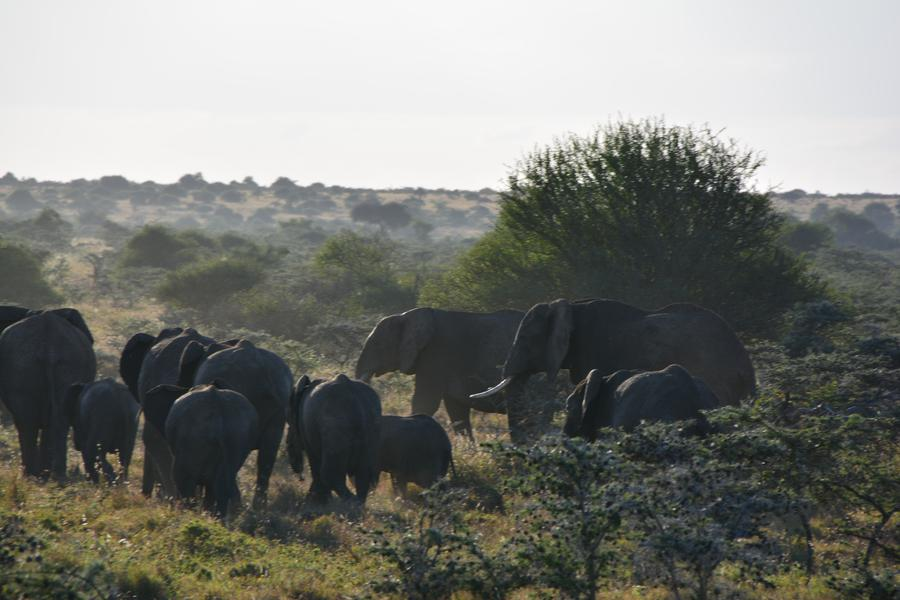elephant: (494, 292, 756, 398), (561, 363, 728, 467), (360, 306, 498, 415), (147, 380, 254, 507), (3, 305, 98, 442), (298, 372, 378, 489), (356, 408, 455, 494), (186, 335, 293, 411), (73, 378, 137, 464)
